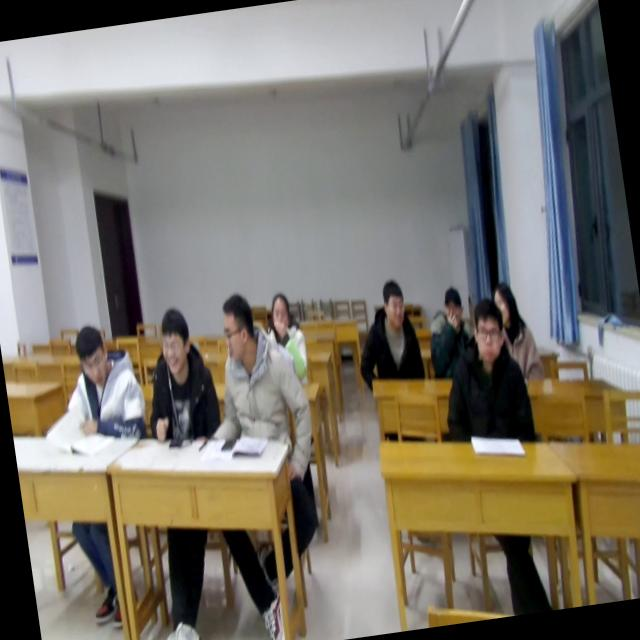down: (66, 320, 115, 392)
lookup: (467, 294, 513, 374), (154, 303, 195, 376), (378, 273, 408, 333), (264, 284, 295, 340), (435, 280, 466, 330)
sit: (190, 282, 316, 451), (429, 294, 538, 454), (44, 318, 150, 452), (132, 302, 226, 448), (347, 275, 426, 387), (490, 275, 547, 385), (421, 284, 482, 382), (260, 288, 314, 396)
